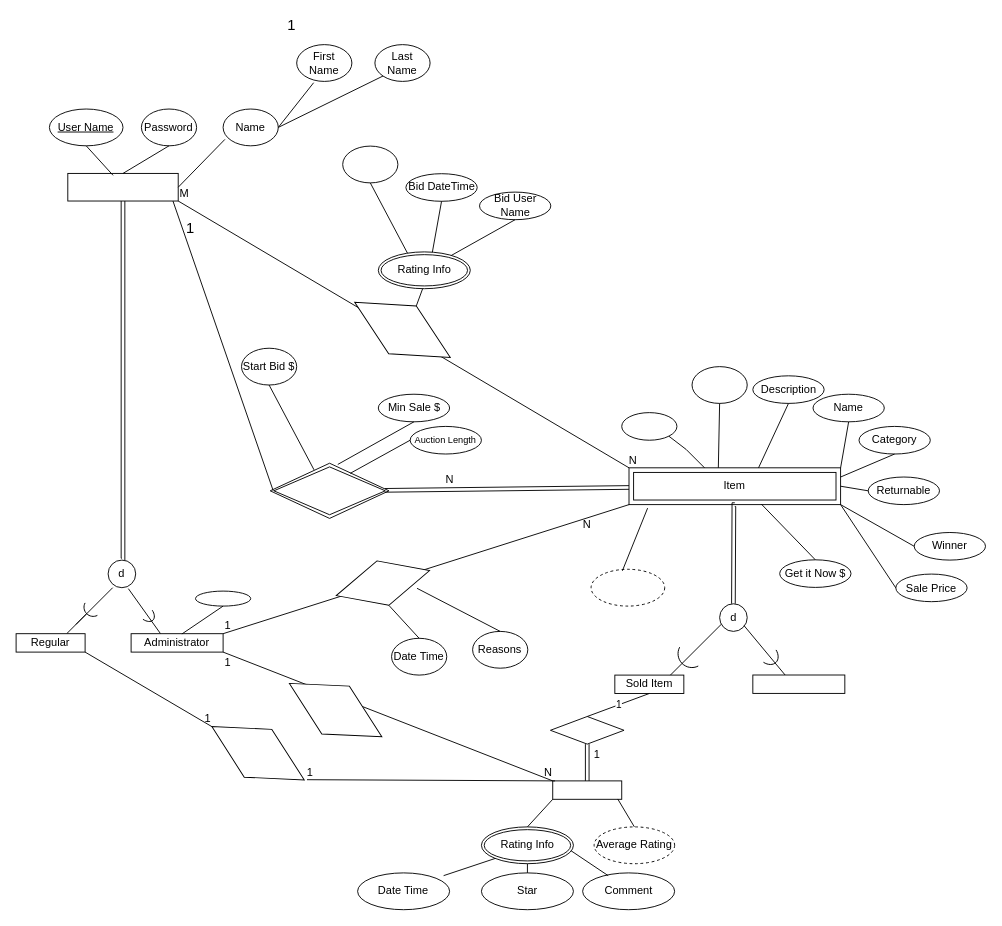
This 1002x926 diagram has some shape labels left out. Here are the shapes that lost their labels. From the top down, the centre of each, then its label:
At point 370,164: "Bid $".
At point 122,186: "User".
At point 402,329: "BID".
At point 719,384: "Condition".
At point 649,426: "Item ID".
At point 329,490: "List for Auction".
At point 223,598: "Position".
At point 382,582: "CANCLE".
At point 627,587: "Auction End Time".
At point 798,683: "Unsold Item".
At point 335,709: "Admin Delete".
At point 587,730: "Own".
At point 257,753: "Regular Delete".
At point 587,789: "Rating".
